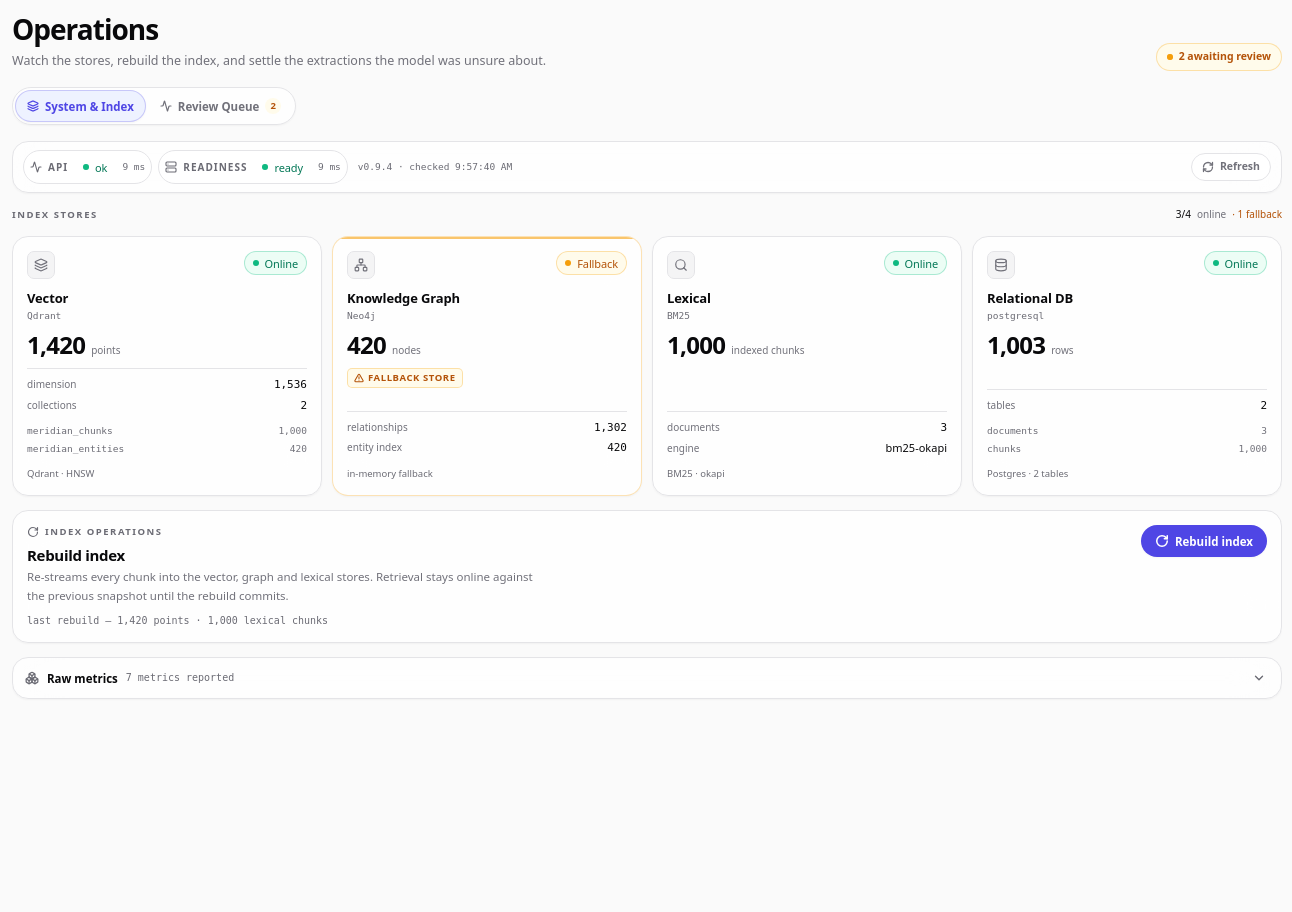
Test: OpsView › switches to the review queue and back
This screenshot has width=1292, height=912.
Later steps or results of the test are not shown.
Click the tab with id "ops-tab-review". click: coordinates (221, 106)
box: [148, 90, 293, 122]
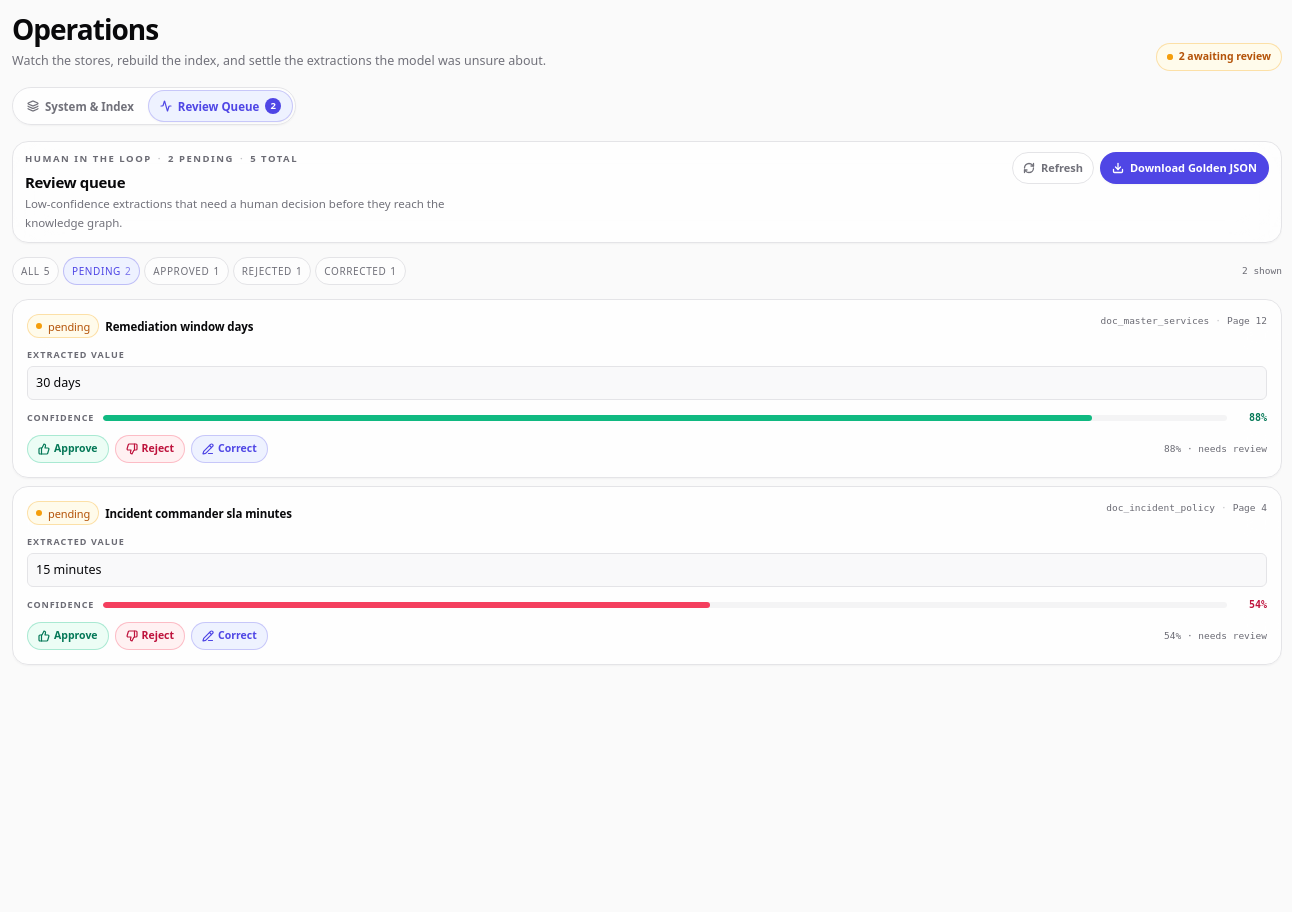
expect the text "Index stores" is gone: met
